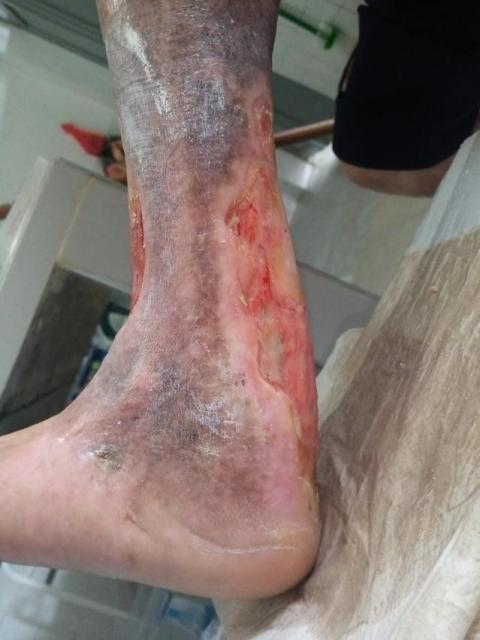wound: (225, 87, 318, 507), (128, 182, 146, 315)
